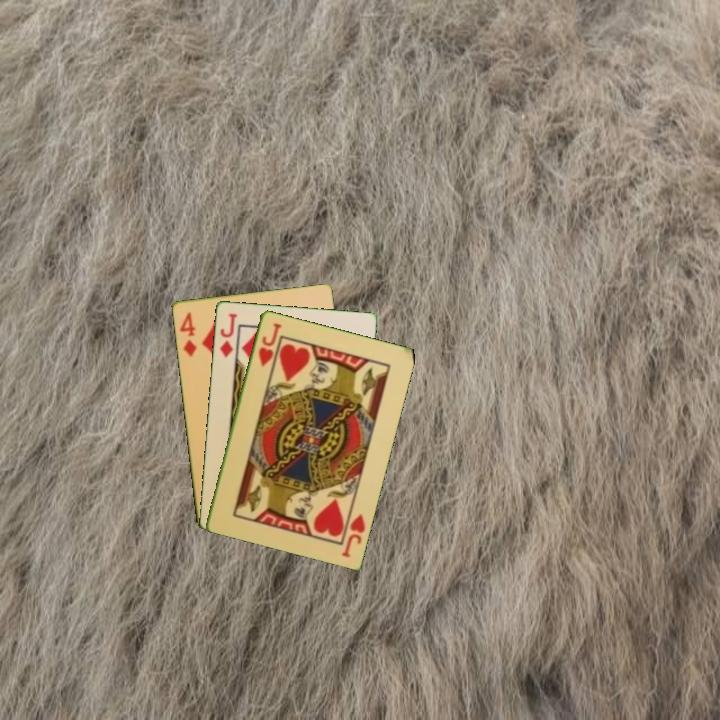4d: (176, 308, 199, 359)
Jd: (216, 309, 240, 360)
Jh: (338, 510, 368, 560), (255, 319, 284, 369)
